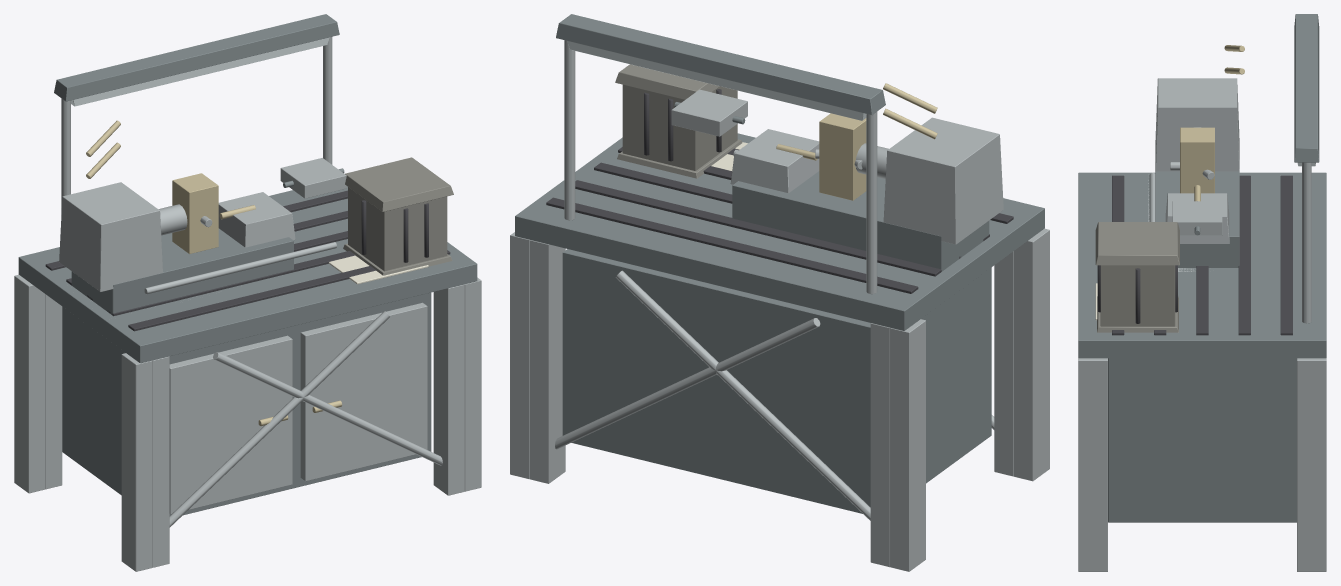
File: DD_workbench3_L37.fbx
The picture shows the model from 3 angles, left to right: view 1: azimuth 30°, elevation 25°; view 2: azimuth 150°, elevation 25°; view 3: azimuth 270°, elevation 25°; orthographic projection. The views are drawn at different scales.
Visible parts, largest first — view 1: DD_workbench3_L37; view 2: DD_workbench3_L37; view 3: DD_workbench3_L37.
Part boxes in pixels (x1,y1,x2,y2): DD_workbench3_L37: (14, 14, 481, 571); DD_workbench3_L37: (510, 14, 1049, 571); DD_workbench3_L37: (1078, 14, 1326, 571).
Size of the model in its own units: 1.64 by 1.8 by 1.
